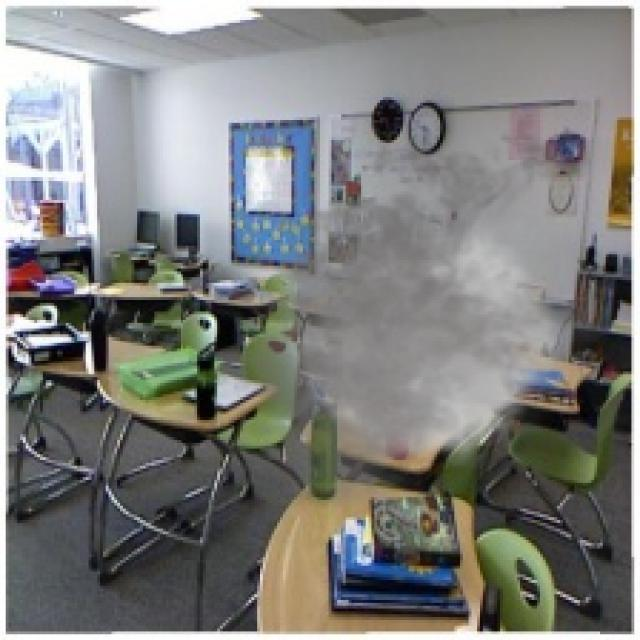Smoke: (223, 117, 632, 523)
